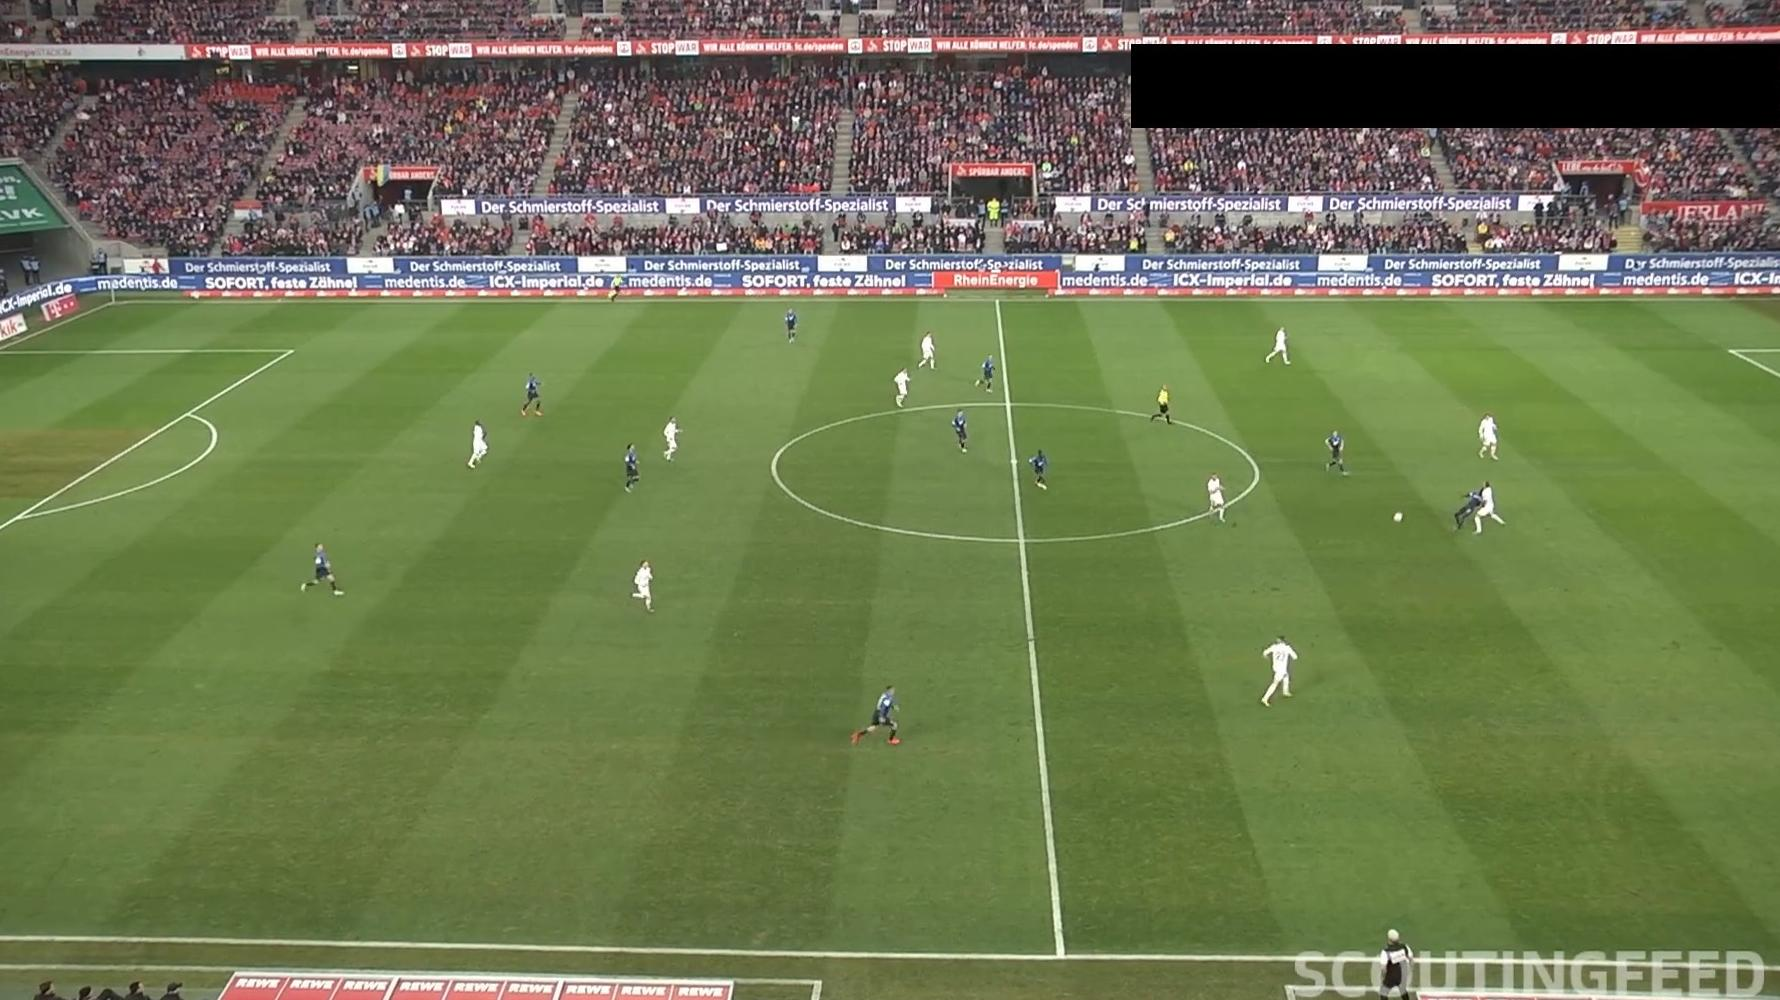ball: (1391, 510, 1405, 523)
